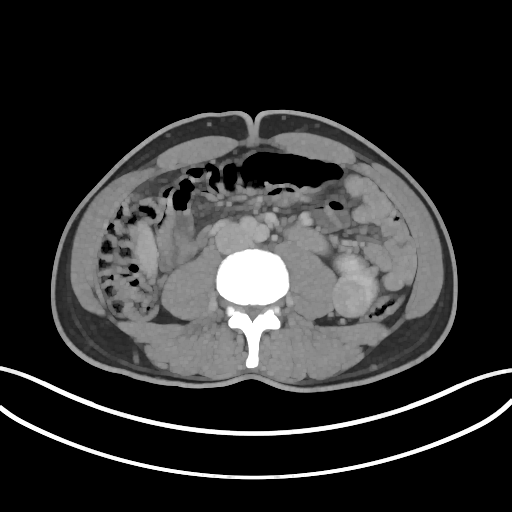Lesion: (331, 277, 372, 321)
